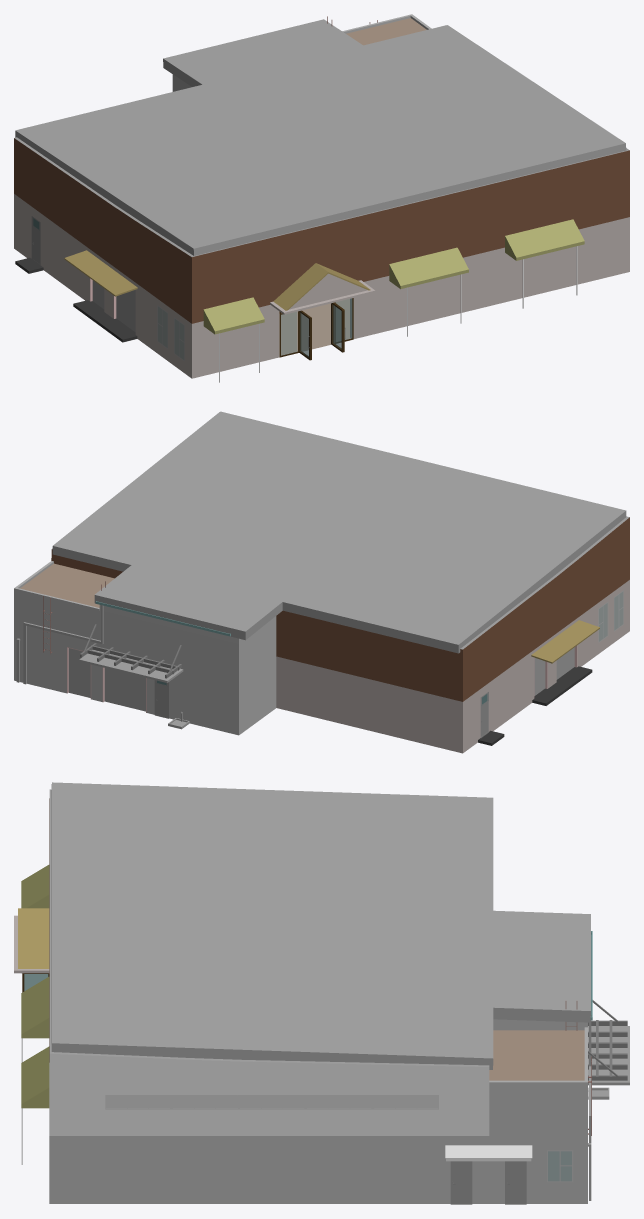
File: SuperMarket_middle.fbx
3 renders of one model, top to bottom at view 1: azimuth 30°, elevation 25°; view 2: azimuth 150°, elevation 25°; view 3: azimuth 270°, elevation 25°, orthographic. The views are drawn at different scales.
Visible parts, largest first — view 1: SuperMarket_middle; view 2: SuperMarket_middle; view 3: SuperMarket_middle.
Part boxes in pixels (x1,y1,x2,y2): SuperMarket_middle: (14, 14, 629, 382); SuperMarket_middle: (14, 411, 629, 753); SuperMarket_middle: (14, 782, 629, 1204).
Bounding box in the file's own units: 2275 × 588 × 2062.
